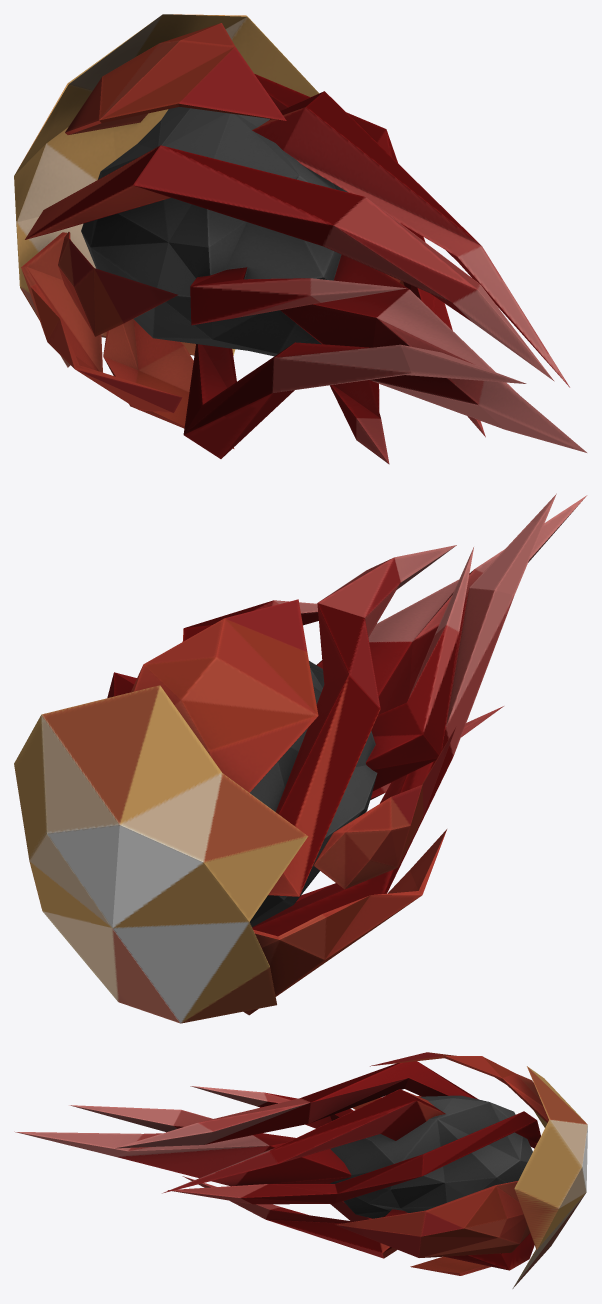
The model's file is Comet.glb.
The picture shows the model from 3 angles, top to bottom: view 1: azimuth 30°, elevation 25°; view 2: azimuth 150°, elevation 25°; view 3: azimuth 270°, elevation 25°; orthographic projection. The views are drawn at different scales.
Parts seen in each view (by area): view 1: Node; view 2: Node; view 3: Node.
Boxes of the visible parts, x1,y1,x2,y2 form: Node: [14, 14, 586, 464]; Node: [14, 493, 587, 1023]; Node: [14, 1052, 587, 1288].
Size of the model in its own units: 9.77 by 9.92 by 23.45.
1 material, 1 textured.
